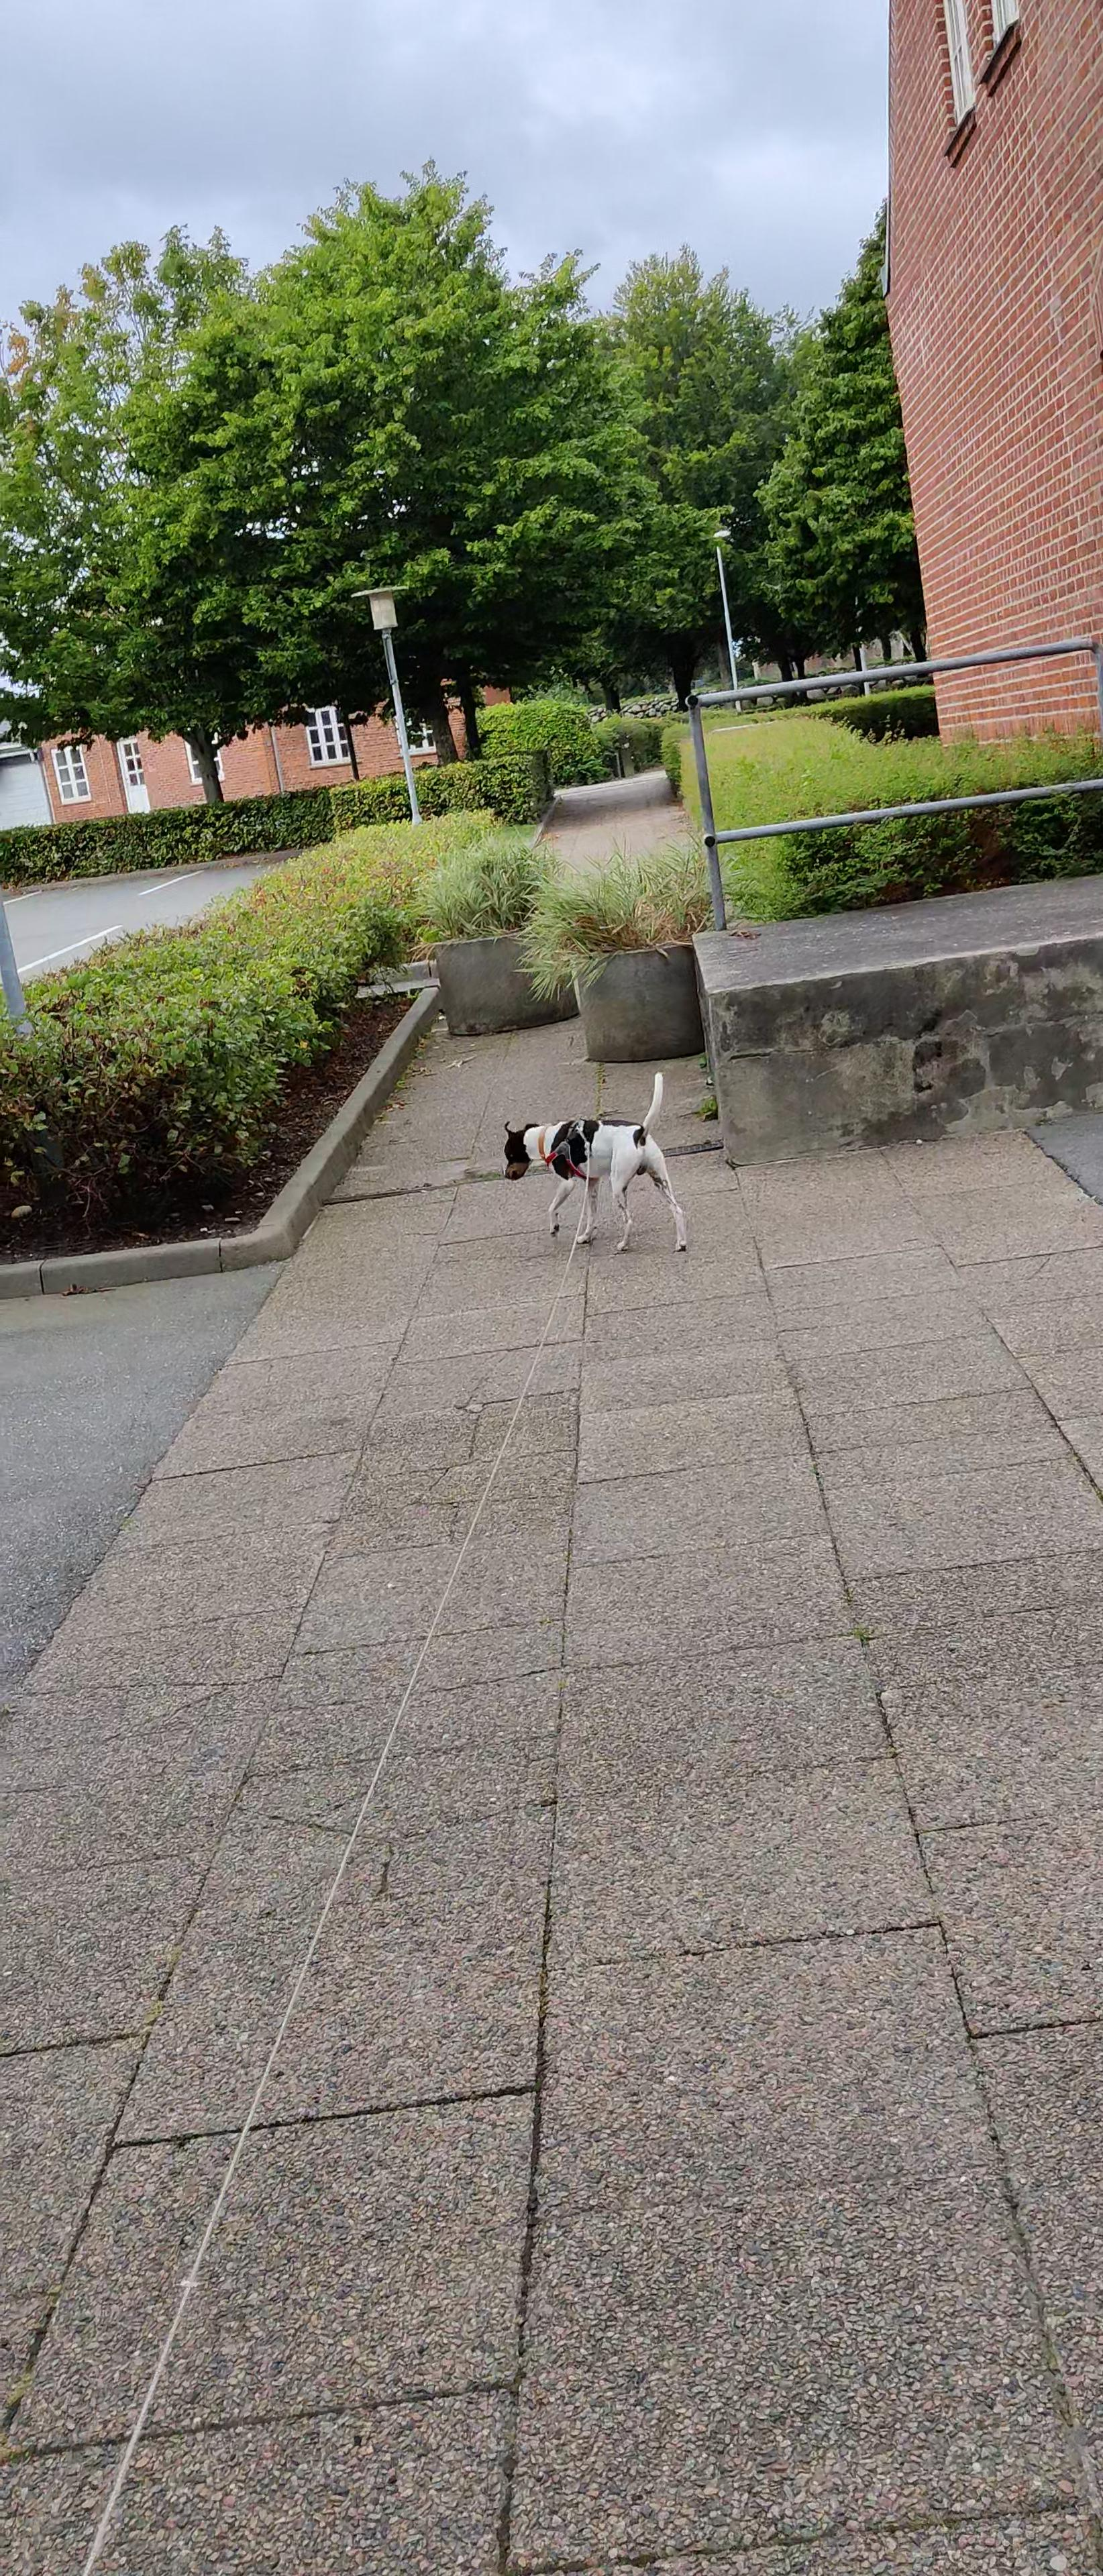Dog: (498, 1069, 689, 1253)
